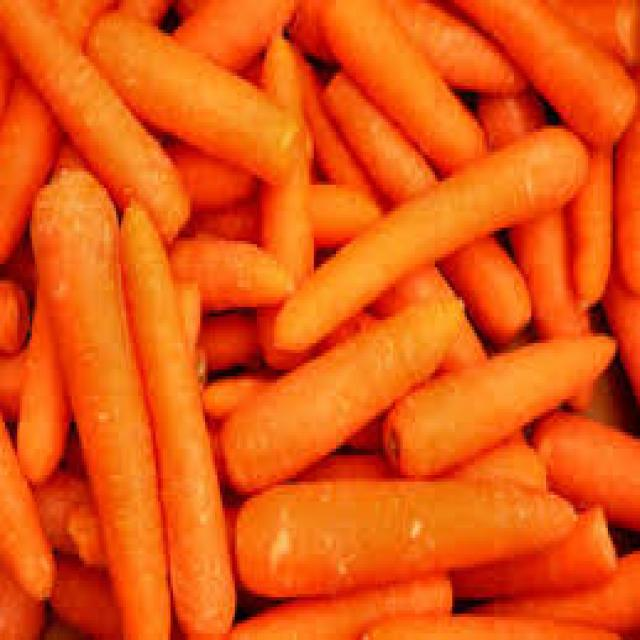Fresh_Carrot: (172, 121, 592, 295), (24, 198, 189, 640), (383, 317, 626, 469)
